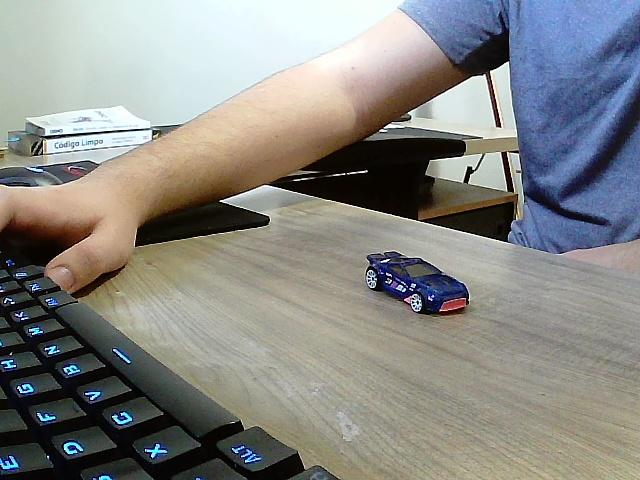Carro: (366, 252, 468, 317)
